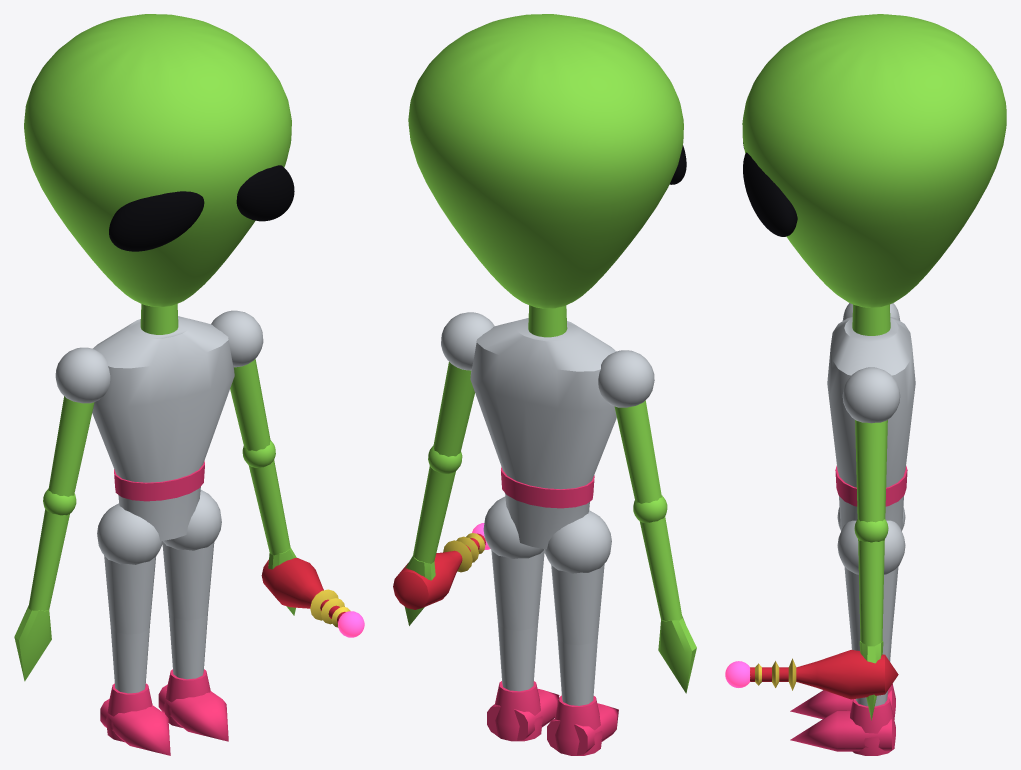
The model's file is alien_grunt.glb.
3 views of the same model, side by side, from view 1: azimuth 30°, elevation 25°; view 2: azimuth 150°, elevation 25°; view 3: azimuth 270°, elevation 25° (orthographic). The views are drawn at different scales.
Visible parts, largest first — view 1: skull, torso, eye, thigh, thigh.001, hip, upper, shoulder, eye.001, upper.001, gun_body, lower (+13 smaller); view 2: skull, torso, thigh.001, thigh, hip, upper, shoulder, upper.001, lower, gun_body, lower.001, shin (+13 smaller); view 3: skull, torso, gun_body, upper.001, shoulder.001, lower.001, eye.001, toe.001, hip.001, thigh.001, boot.001, neck (+5 smaller).
Part boxes in pixels (<box>): skull: <box>24,14,291,307</box>; torso: <box>92,316,234,540</box>; eye: <box>109,191,204,251</box>; thigh: <box>104,555,156,634</box>; thigh.001: <box>162,542,214,620</box>; hip: <box>97,503,162,564</box>; upper: <box>48,396,94,496</box>; shoulder: <box>55,347,110,403</box>; eye.001: <box>236,165,294,221</box>; upper.001: <box>230,359,270,451</box>; gun_body: <box>261,558,345,622</box>; lower: <box>28,509,69,610</box>; skull: <box>408,14,683,308</box>; torso: <box>470,318,616,549</box>; thigh.001: <box>491,550,544,630</box>; thigh: <box>551,564,604,645</box>; hip: <box>544,510,611,573</box>; upper: <box>614,400,661,503</box>; shoulder: <box>598,350,654,407</box>; upper.001: <box>433,362,474,456</box>; lower: <box>639,516,682,620</box>; gun_body: <box>393,533,485,609</box>; lower.001: <box>413,465,455,563</box>; shin: <box>557,635,597,705</box>; skull: <box>742,14,1006,307</box>; torso: <box>827,317,915,531</box>; gun_body: <box>750,649,898,699</box>; upper.001: <box>855,420,887,522</box>; shoulder.001: <box>842,367,900,423</box>; lower.001: <box>858,539,884,646</box>; eye.001: <box>743,152,797,236</box>; toe.001: <box>790,710,891,751</box>; hip.001: <box>837,520,905,574</box>; thigh.001: <box>844,566,898,644</box>; boot.001: <box>850,697,895,755</box>; neck: <box>852,304,890,335</box>.
Bounding box in the file's own units: 1 × 2.28 × 0.8277.
